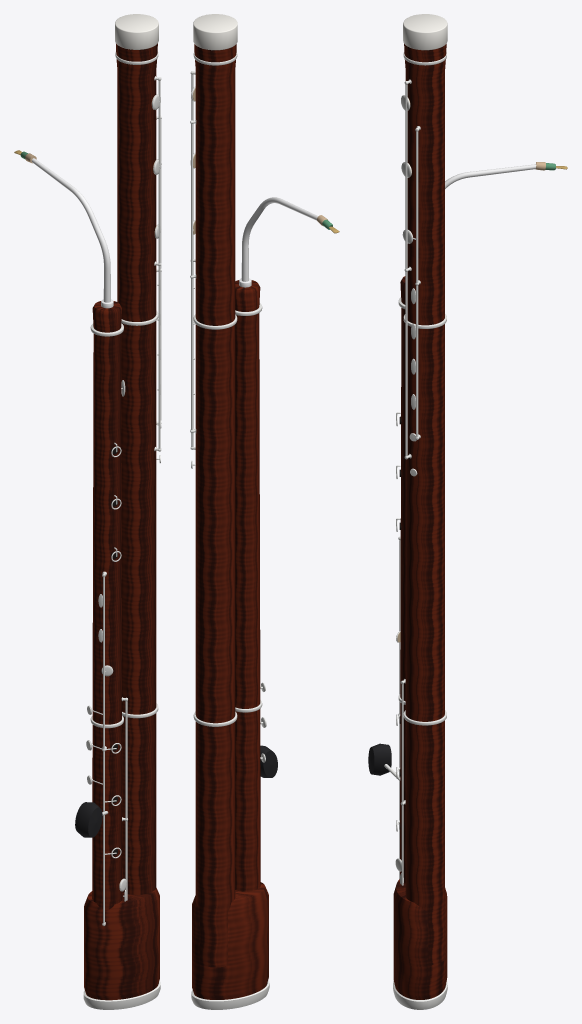
Rendered from bassoon.glb.
The picture shows the model from 3 angles, left to right: view 1: azimuth 30°, elevation 25°; view 2: azimuth 210°, elevation 25°; view 3: azimuth 270°, elevation 25°; orthographic projection.
Visible parts, largest first — view 1: Body; view 2: Body; view 3: Body.
Part boxes in pixels (box(x1,y1,x2,y2)): Body: box(14, 14, 161, 1009); Body: box(190, 14, 339, 1009); Body: box(368, 14, 567, 1009).
Size of the model in its own units: 0.1421 by 1.29 by 0.2377.
Materials: 10 (1 with a texture image).
